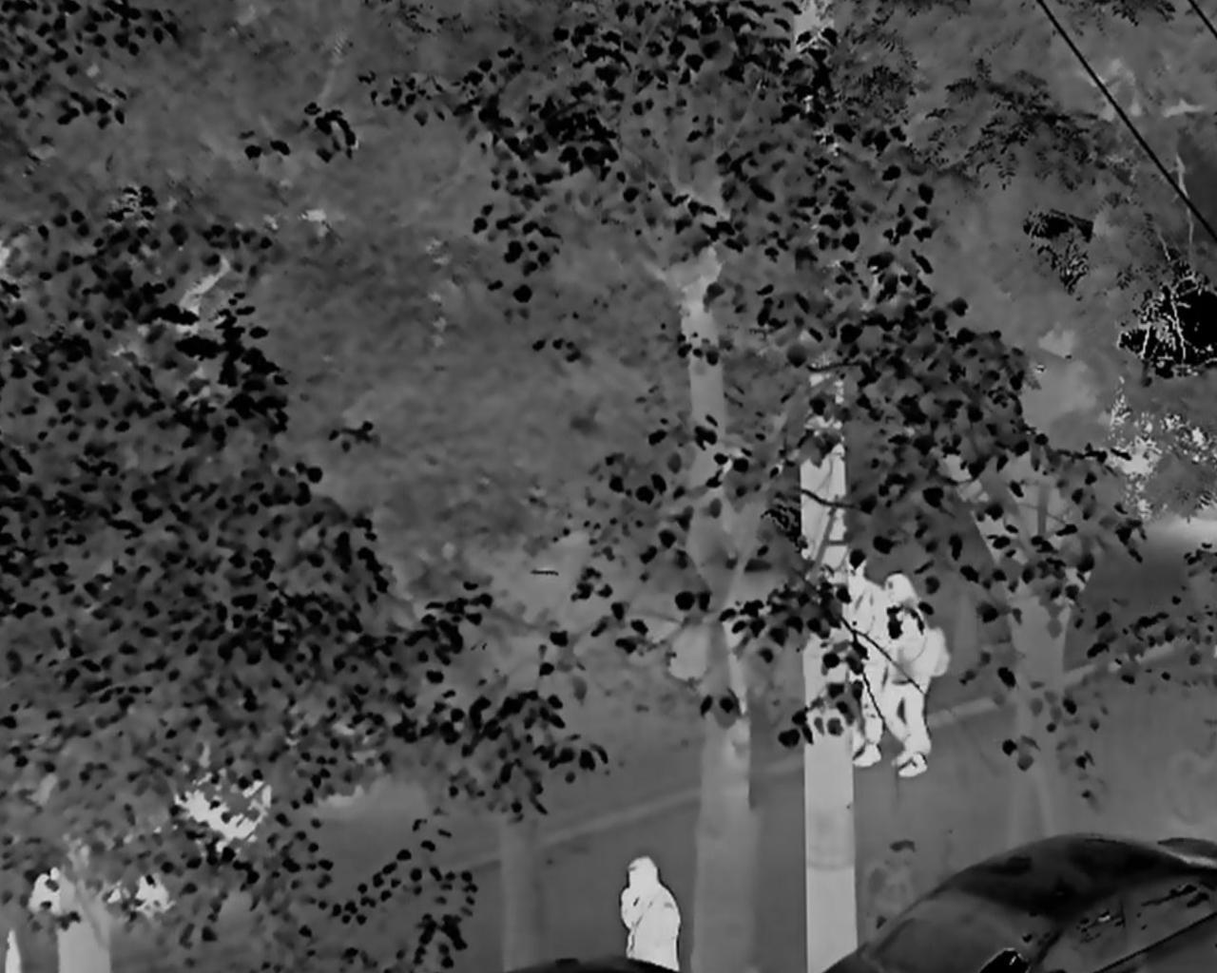person: (887, 573, 941, 777), (843, 554, 888, 770), (620, 859, 682, 973)
